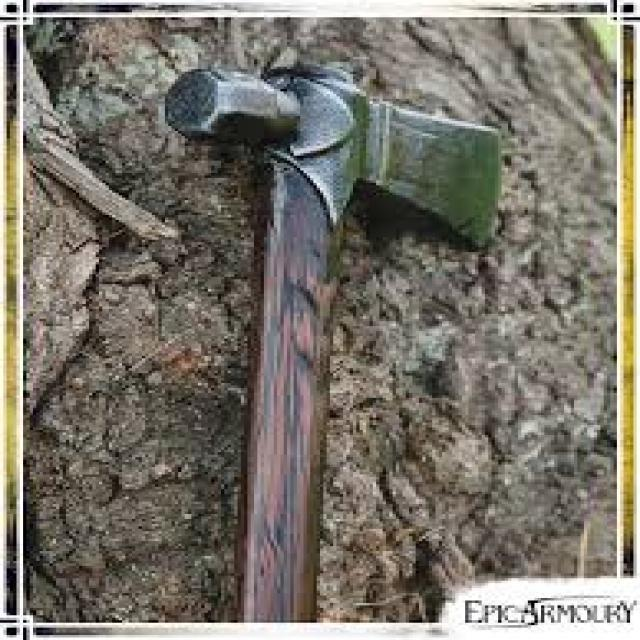hammer: (150, 49, 516, 626)
